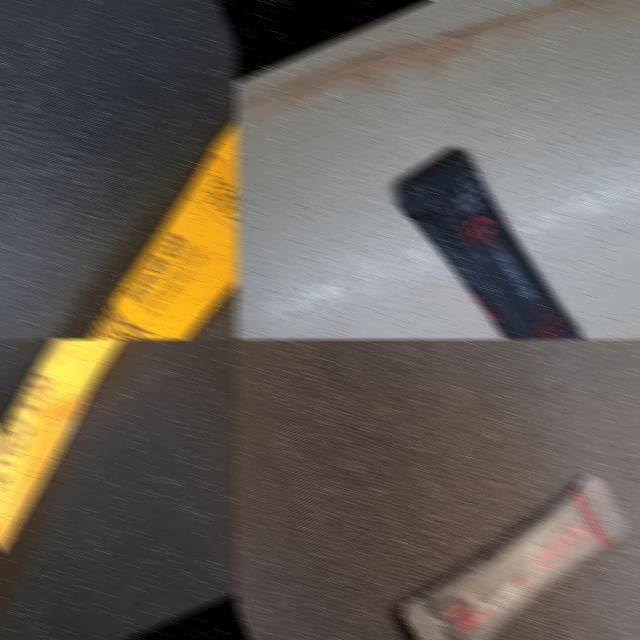KANU: (367, 102, 602, 340), (363, 439, 640, 640)
mix_coffee: (0, 338, 238, 640), (0, 105, 238, 339)
